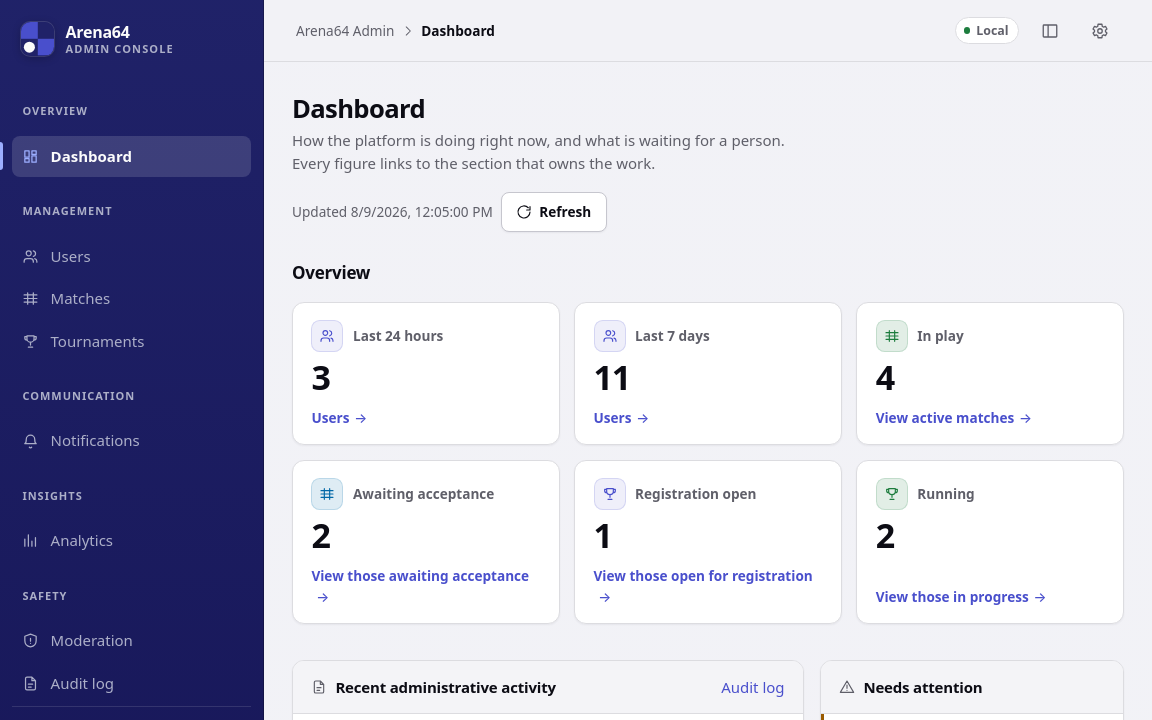
shows the newest figures after a successful refresh
expect the heading "Overview" is shown: met, box [292, 260, 370, 286]
expect the text "4" is shown: met, box [876, 354, 894, 400]
What coordinates should you click on to do the following:
click the button "Refresh"
I would click on:
 (554, 212)
Its box is [501, 192, 607, 232].
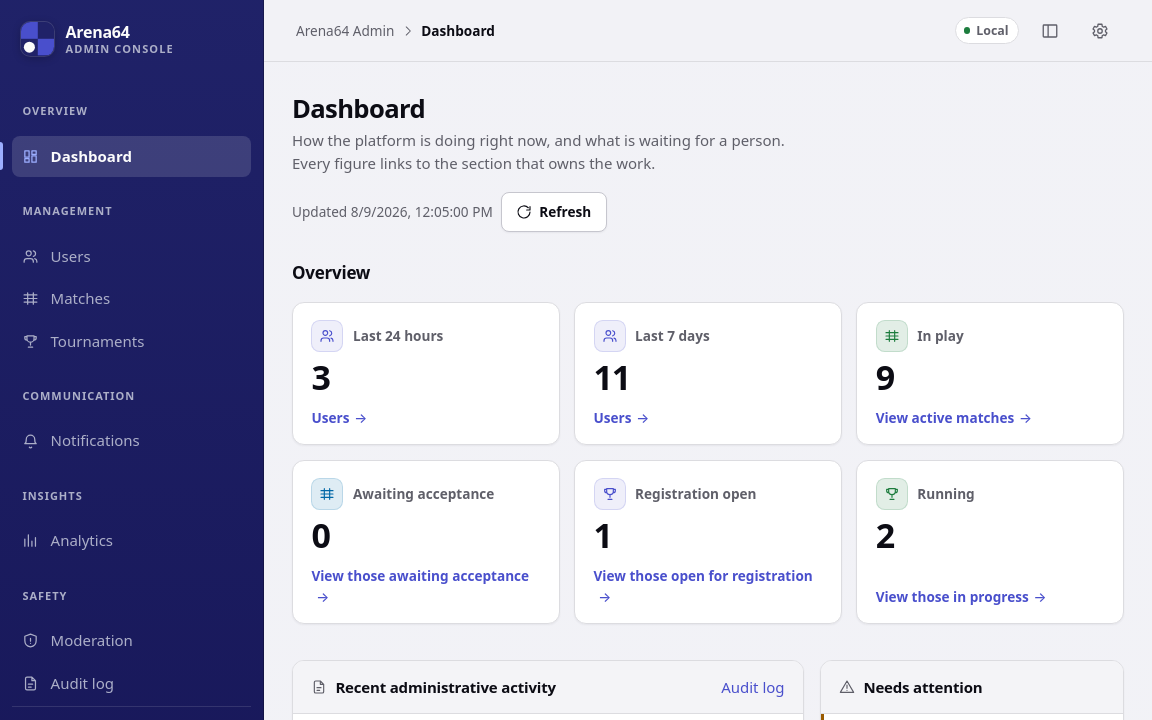
expect the text "9" is shown: met, box [876, 354, 894, 400]
